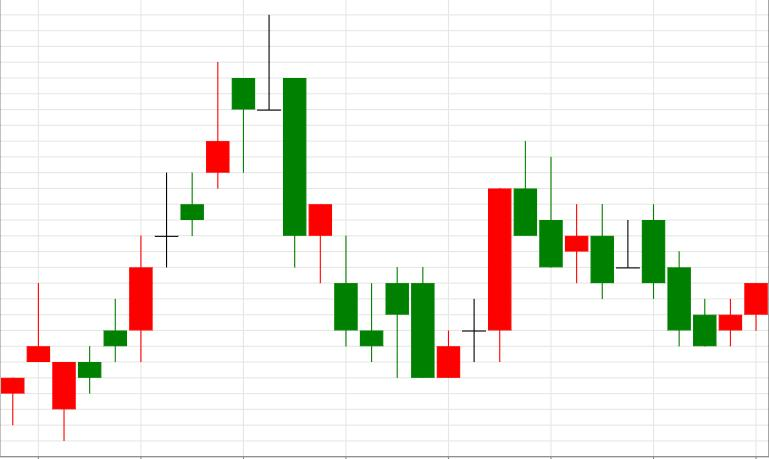hanging_man_fall: (129, 62, 255, 363)
shooting_star_fall: (129, 63, 230, 363)
